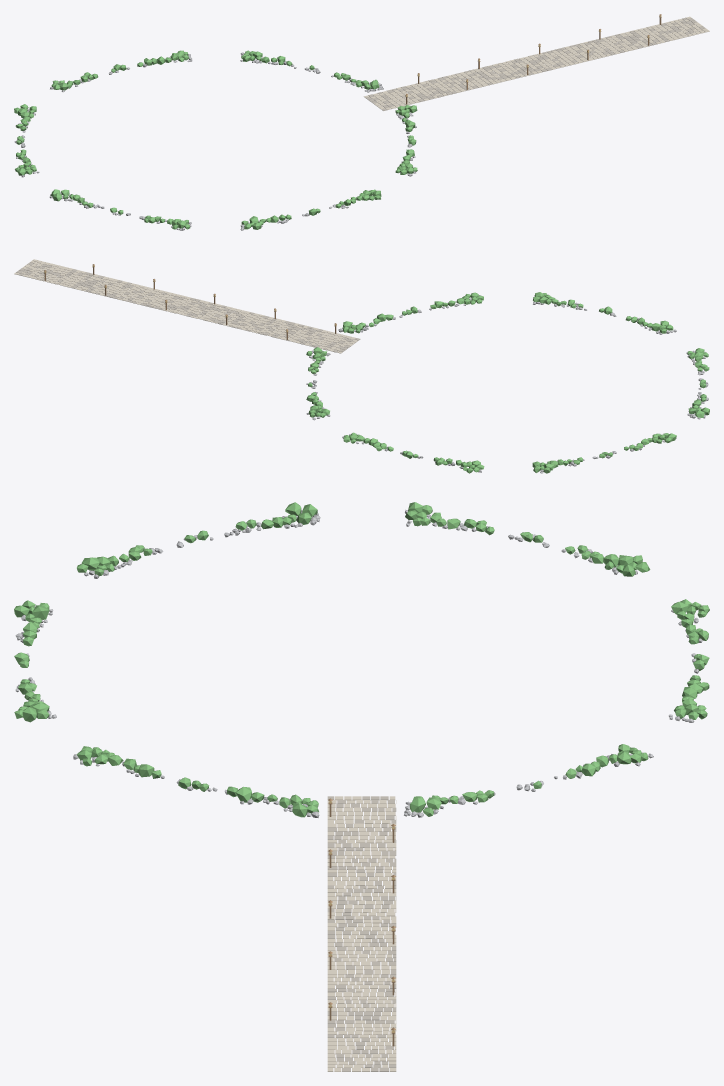
Rendered from path_fencedecor.fbx.
The picture shows the model from 3 angles, top to bottom: view 1: azimuth 30°, elevation 25°; view 2: azimuth 150°, elevation 25°; view 3: azimuth 270°, elevation 25°; orthographic projection. The views are drawn at different scales.
Parts seen in each view (by area): view 1: LobbyPath_Stone, FenceDecor_Bush, LobbyPath_StoneDark, FenceDecor_Rocks; view 2: LobbyPath_Stone, FenceDecor_Bush, LobbyPath_StoneDark, FenceDecor_Rocks; view 3: LobbyPath_Stone, FenceDecor_Bush, LobbyPath_StoneDark, FenceDecor_Rocks.
Boxes of the visible parts, left/top/right/bottom form: LobbyPath_Stone: left=364, top=16, right=709, bottom=109; FenceDecor_Bush: left=14, top=50, right=417, bottom=229; LobbyPath_StoneDark: left=366, top=17, right=705, bottom=110; FenceDecor_Rocks: left=14, top=52, right=416, bottom=230; LobbyPath_Stone: left=14, top=259, right=358, bottom=353; FenceDecor_Bush: left=306, top=292, right=709, bottom=473; LobbyPath_StoneDark: left=16, top=262, right=360, bottom=352; FenceDecor_Rocks: left=306, top=295, right=708, bottom=473; LobbyPath_Stone: left=327, top=796, right=396, bottom=1071; FenceDecor_Bush: left=14, top=502, right=709, bottom=817; LobbyPath_StoneDark: left=327, top=796, right=396, bottom=1071; FenceDecor_Rocks: left=15, top=509, right=702, bottom=817.
Size of the model in its own units: 611 by 11.32 by 320.
